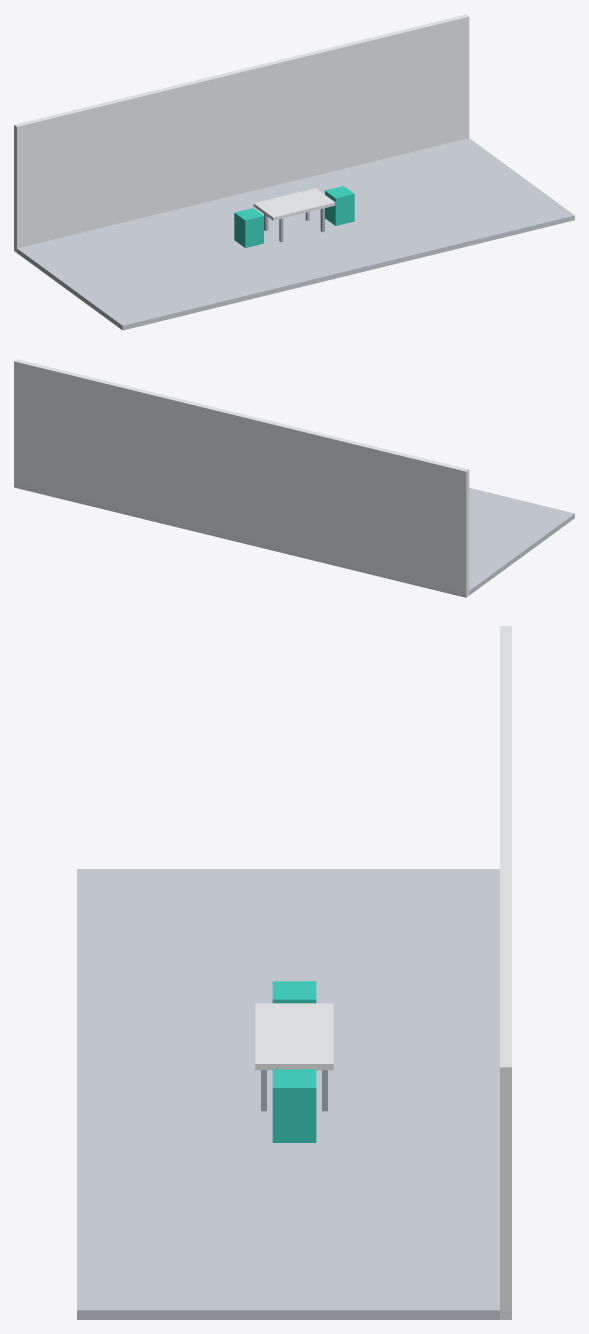
The picture shows the model from 3 angles, top to bottom: view 1: azimuth 30°, elevation 25°; view 2: azimuth 150°, elevation 25°; view 3: azimuth 270°, elevation 25°; orthographic projection. The views are drawn at different scales.
Visible parts, largest first — view 1: Exhibition Booth Concept; view 2: Exhibition Booth Concept; view 3: Exhibition Booth Concept.
Boxes of the visible parts, x1,y1,x2,y2 form: Exhibition Booth Concept: [14, 14, 574, 330]; Exhibition Booth Concept: [14, 359, 574, 597]; Exhibition Booth Concept: [77, 626, 511, 1319].
Size of the model in its own units: 12 by 3.2 by 5.
